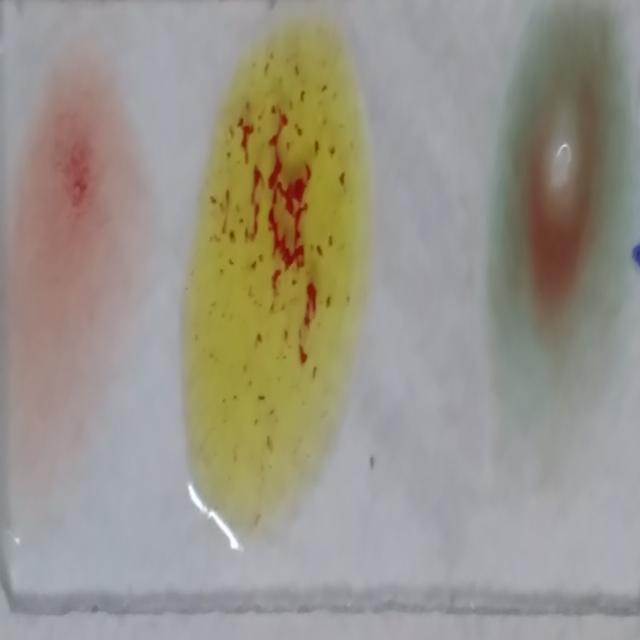B: (195, 33, 352, 499)
